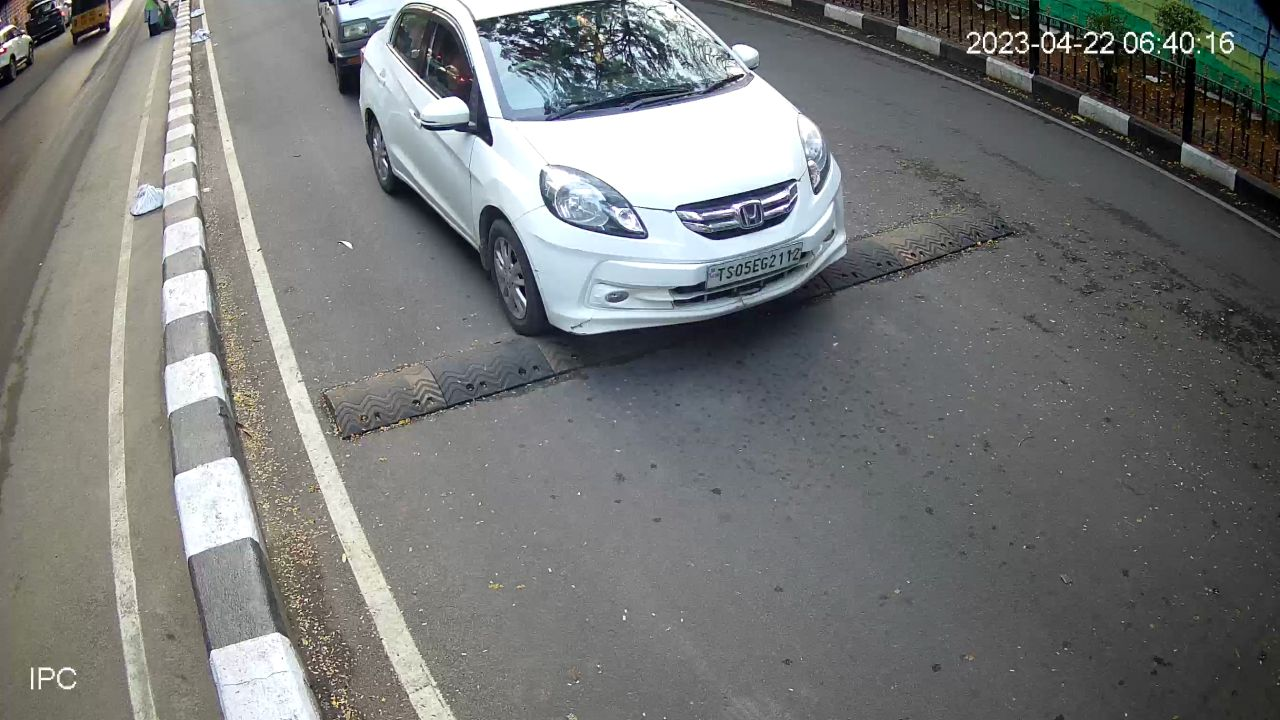license_plate: (697, 234, 809, 298)
